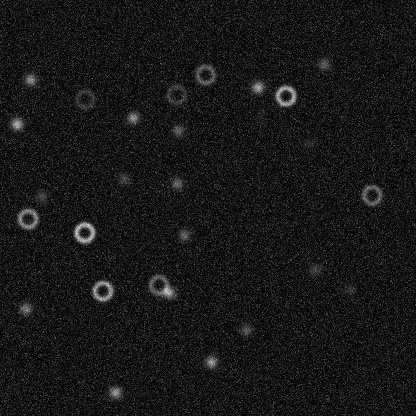Ring: (359, 182, 383, 206), (146, 272, 170, 296), (164, 82, 188, 106), (72, 220, 96, 244), (72, 87, 96, 111), (273, 83, 297, 107), (90, 278, 114, 302), (193, 62, 217, 86), (15, 206, 39, 230)
Spot: (237, 321, 253, 337), (300, 134, 316, 150), (22, 71, 38, 87), (17, 300, 33, 316), (202, 354, 218, 370), (341, 281, 357, 297), (307, 261, 323, 277), (175, 226, 191, 242), (107, 384, 123, 400), (160, 284, 176, 300), (168, 175, 184, 191), (316, 56, 332, 72), (170, 122, 186, 138), (249, 79, 265, 95), (252, 108, 268, 124), (33, 188, 49, 204), (115, 170, 131, 186), (8, 115, 24, 131), (125, 109, 141, 125)
